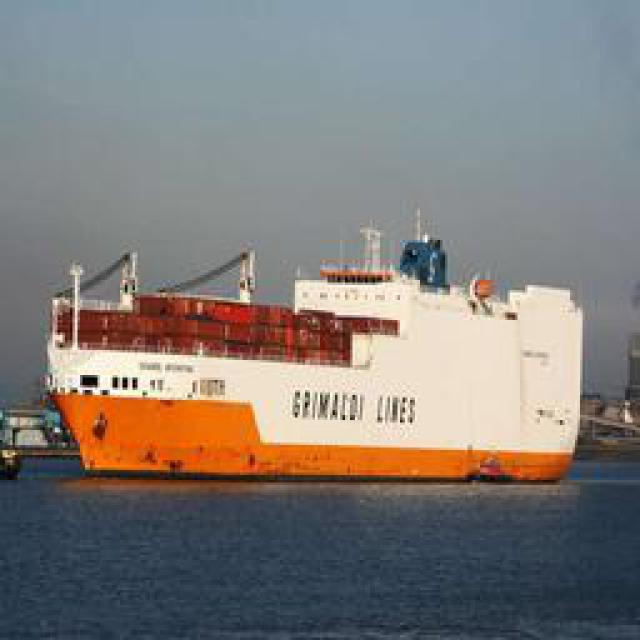Ship: (42, 230, 582, 488)
